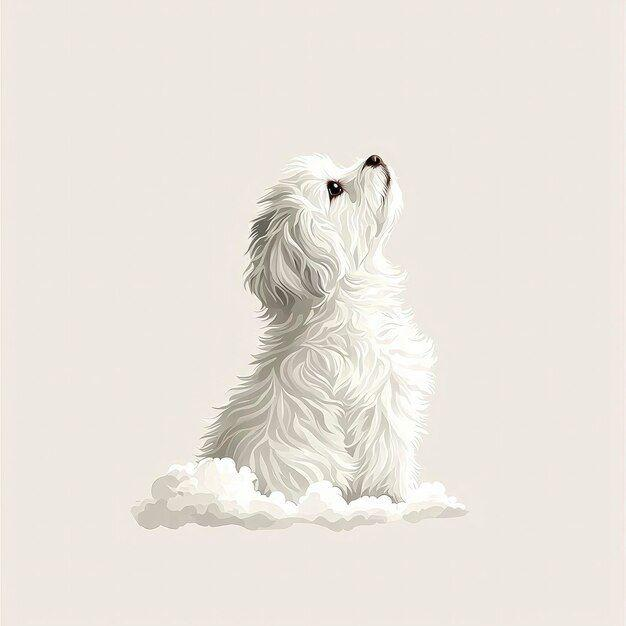adult_dog: (200, 151, 436, 508)
